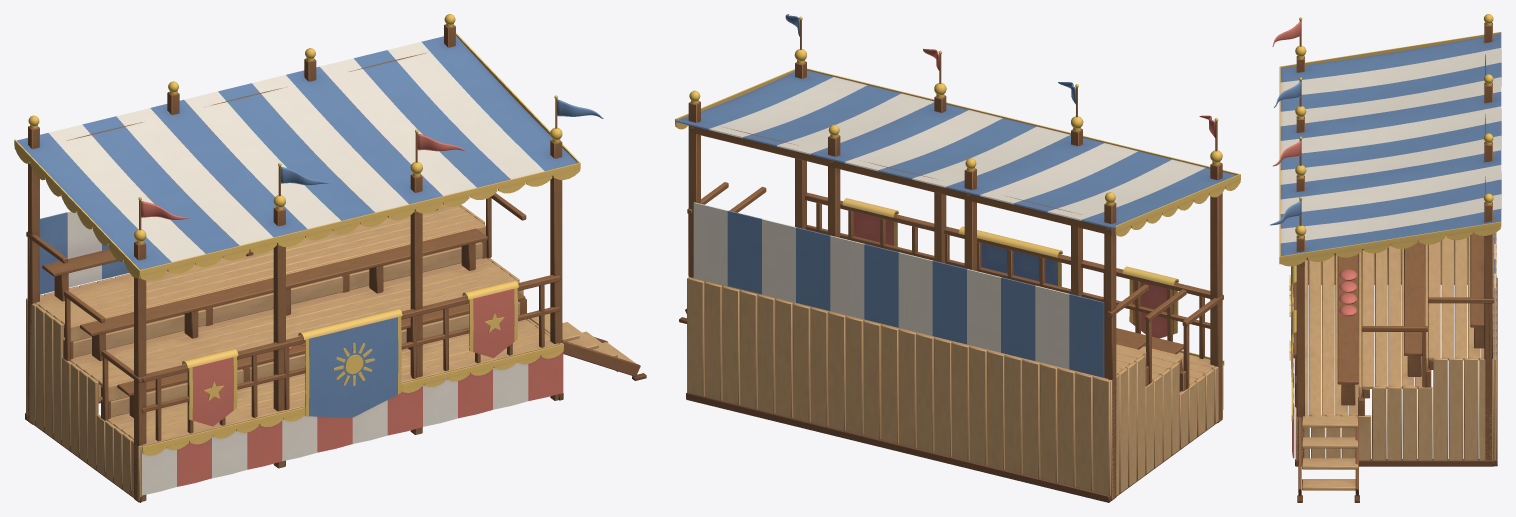
File: tournament-stand.glb
The picture shows the model from 3 angles, left to right: view 1: azimuth 30°, elevation 25°; view 2: azimuth 150°, elevation 25°; view 3: azimuth 270°, elevation 25°; orthographic projection. The views are drawn at different scales.
Parts seen in each view (by area): view 1: tournament-stand_body, tournament-stand_details, tournament-stand; view 2: tournament-stand_body, tournament-stand_details; view 3: tournament-stand_body, tournament-stand_details, tournament-stand.
Part boxes in pixels (x1=…): tournament-stand_body: x1=14, y1=24, x2=646, y2=502; tournament-stand_details: x1=28, y1=14, x2=562, y2=401; tournament-stand: x1=141, y1=99, x2=603, y2=220; tournament-stand_body: x1=675, y1=61, x2=1240, y2=502; tournament-stand_details: x1=689, y1=16, x2=1222, y2=204; tournament-stand_body: x1=1279, y1=22, x2=1501, y2=502; tournament-stand_details: x1=1289, y1=14, x2=1493, y2=360; tournament-stand: x1=1270, y1=21, x2=1301, y2=225.
Bounding box in the file's own units: 7.57 × 4.28 × 3.32.
7 materials, 1 textured.
